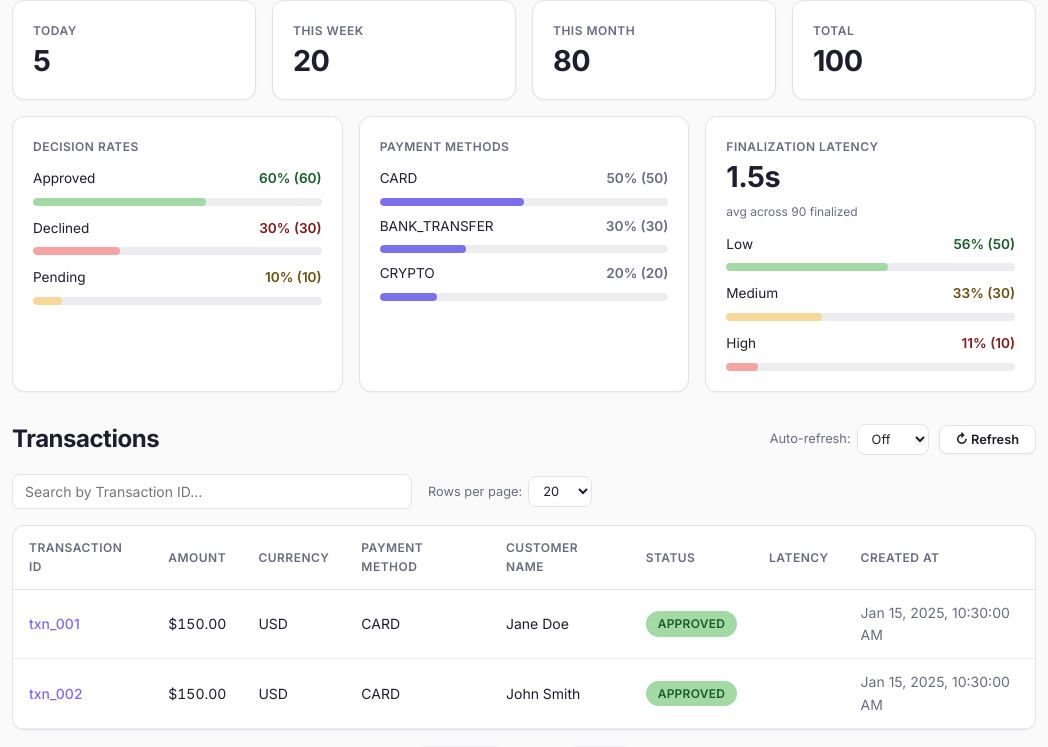
Test: TransactionList › searches transactions by ID with local-first match
Expected: the link "txn_001" is shown, left=29, top=615, right=80, bottom=632
Expected: the link "txn_002" is shown, left=29, top=685, right=82, bottom=702
Step 1. Type "txn_002" into the field labelled "Search by Transaction ID" → (212, 492), box left=12, top=474, right=412, bottom=509
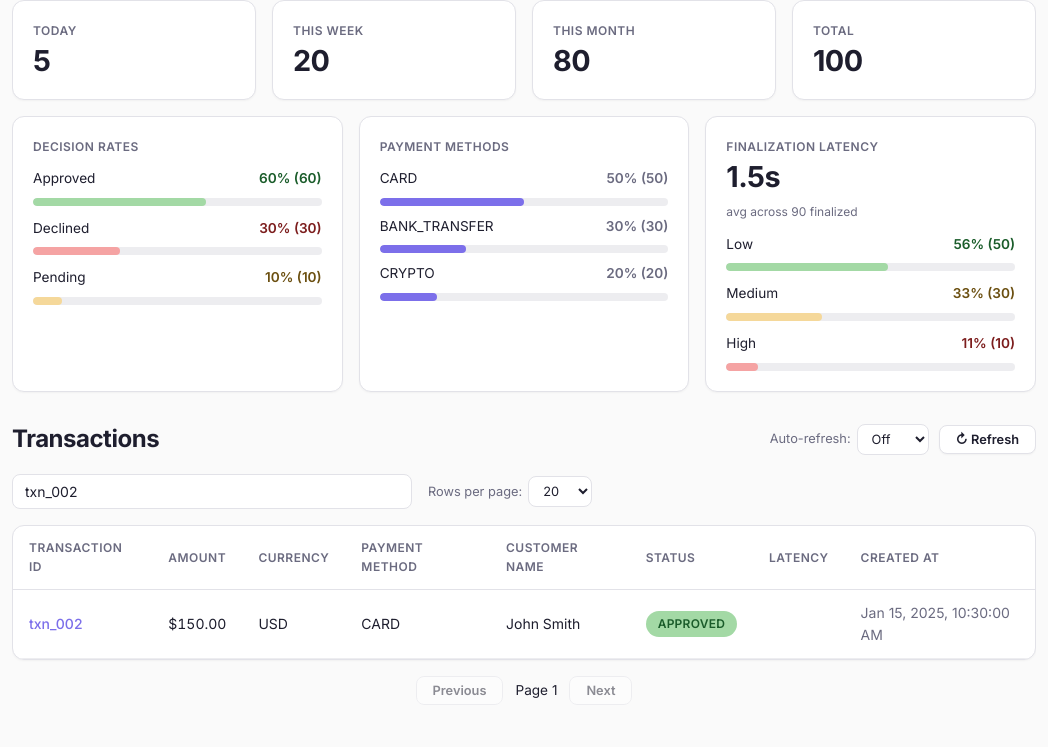
Expected: the link "txn_002" is shown, left=29, top=615, right=82, bottom=632
Result: the link "txn_001" is gone
